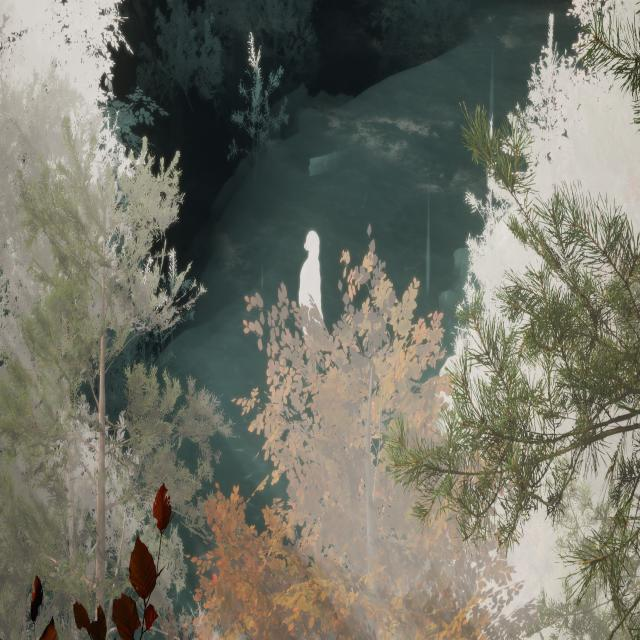Human: (296, 223, 322, 387)
